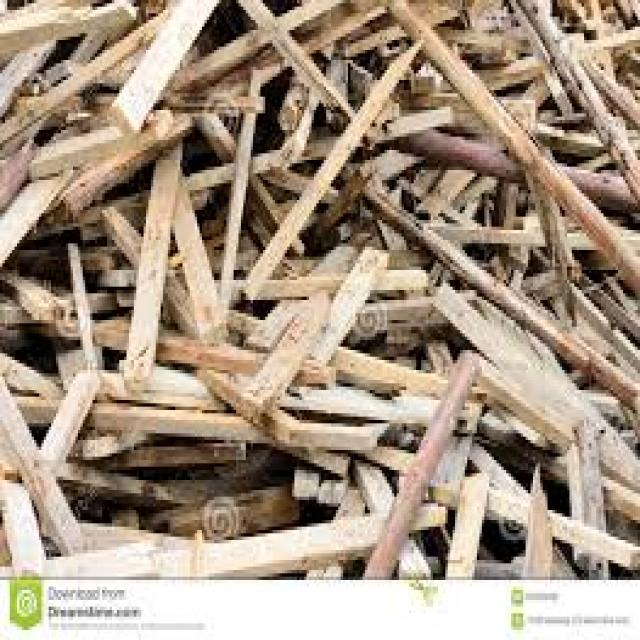green waste: (1, 2, 639, 561)
